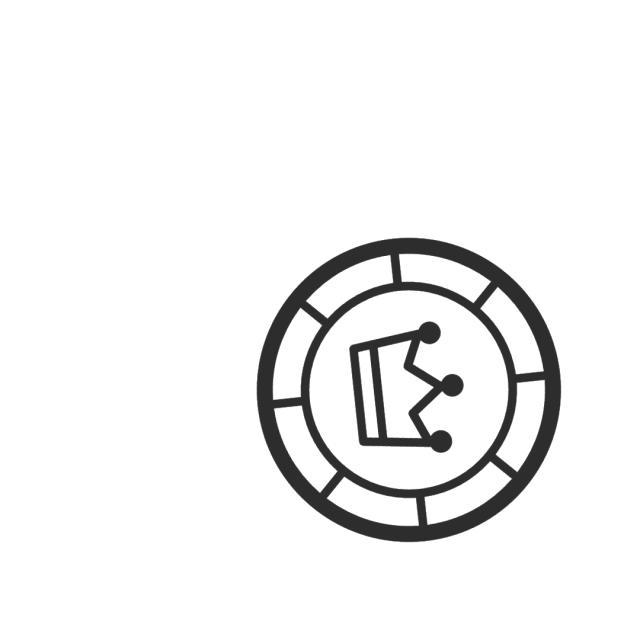coin: (249, 231, 568, 554)
